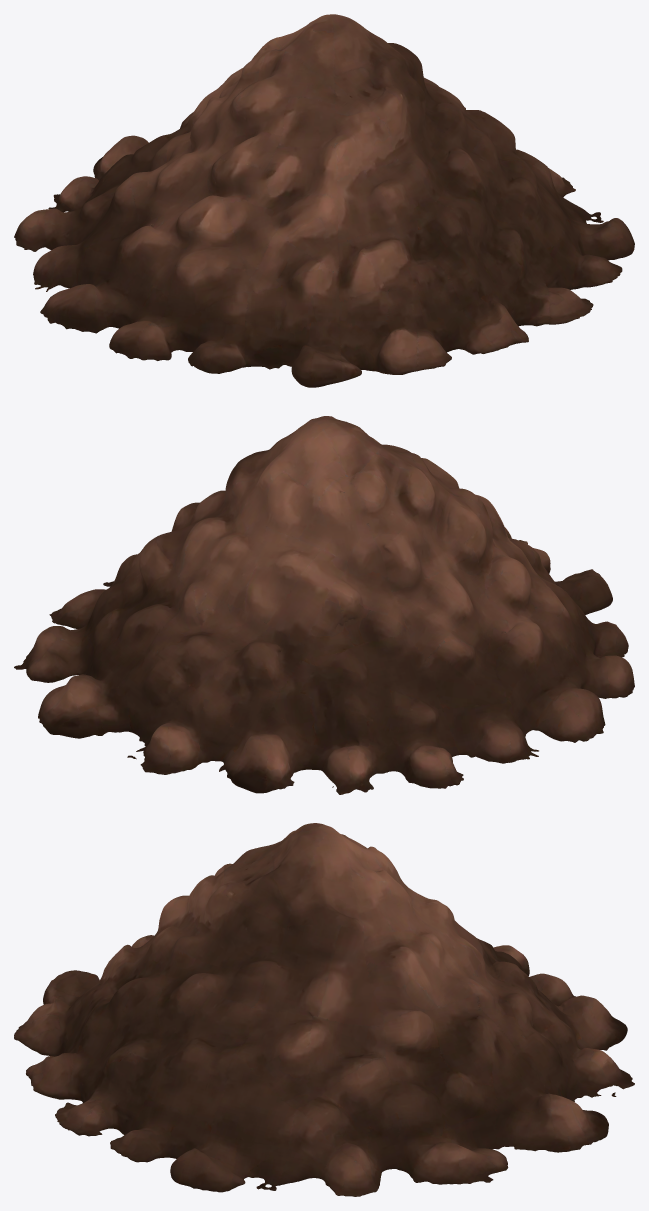
File: dirt-pile.glb
The picture shows the model from 3 angles, top to bottom: view 1: azimuth 30°, elevation 25°; view 2: azimuth 150°, elevation 25°; view 3: azimuth 270°, elevation 25°; orthographic projection.
Size of the model in its own units: 1.89 by 0.821 by 1.9.
1 material, 1 textured.
